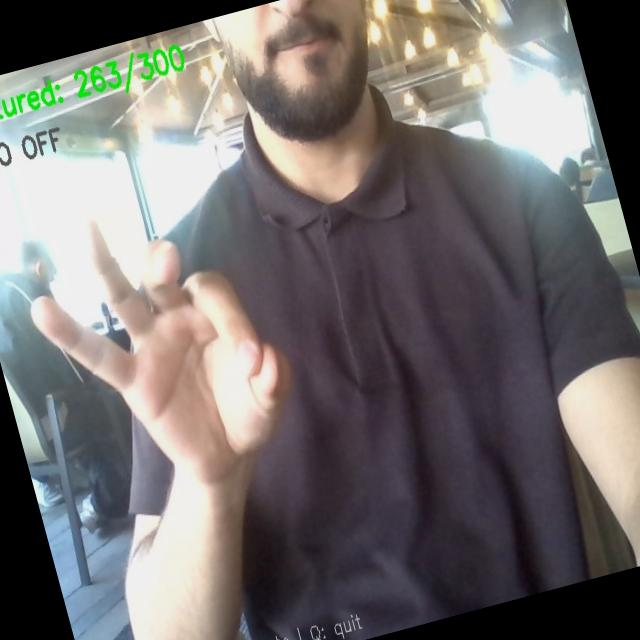Hand: (31, 224, 289, 484)
